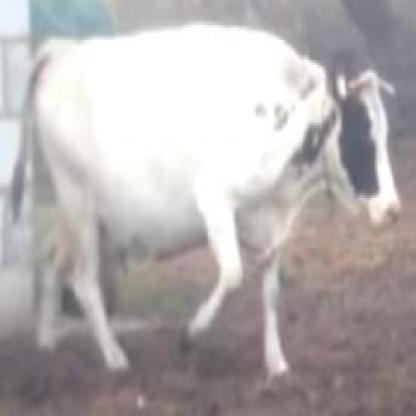cow: (13, 23, 398, 378)
